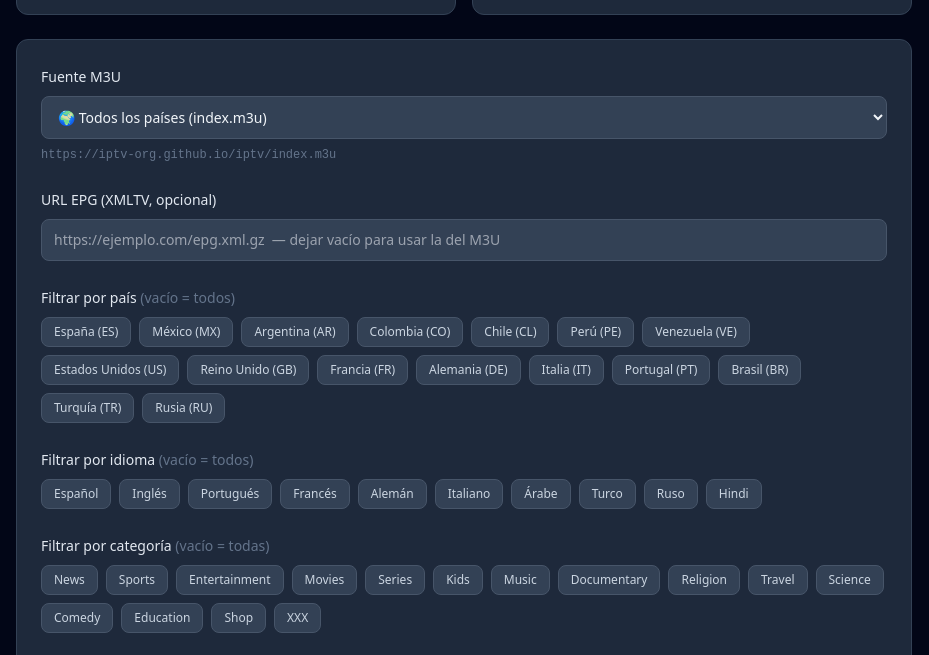
Test: IPTVPage › clears all filters when clicking "Limpiar filtros"
Click the button "España (ES)" at (86, 332), box [41, 317, 131, 347]
(page scrolled)
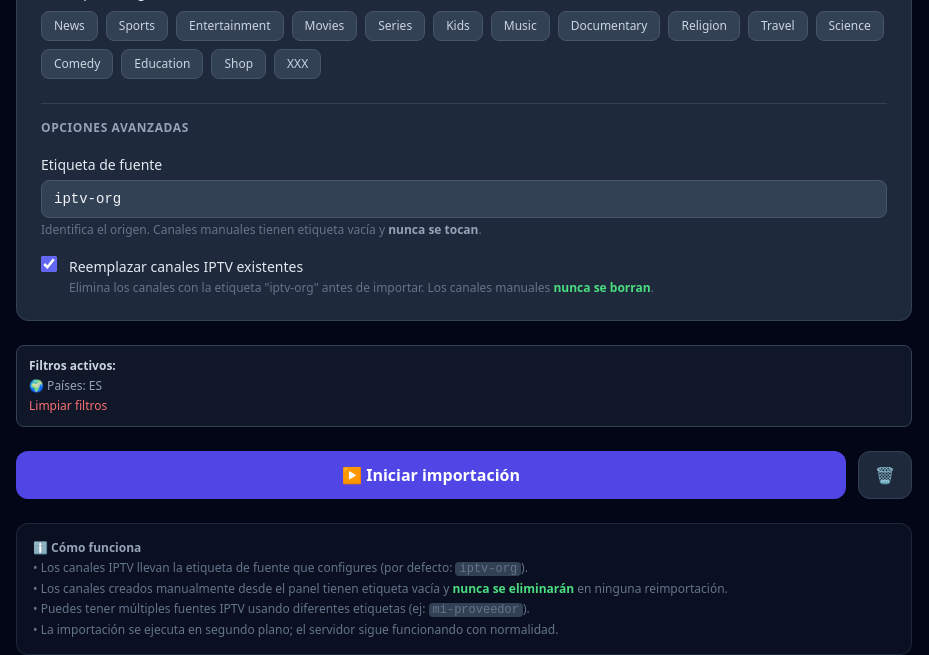
Now the button "Limpiar filtros" is shown
Click the button "Limpiar filtros" at (68, 406), box [29, 398, 107, 414]
(page scrolled)
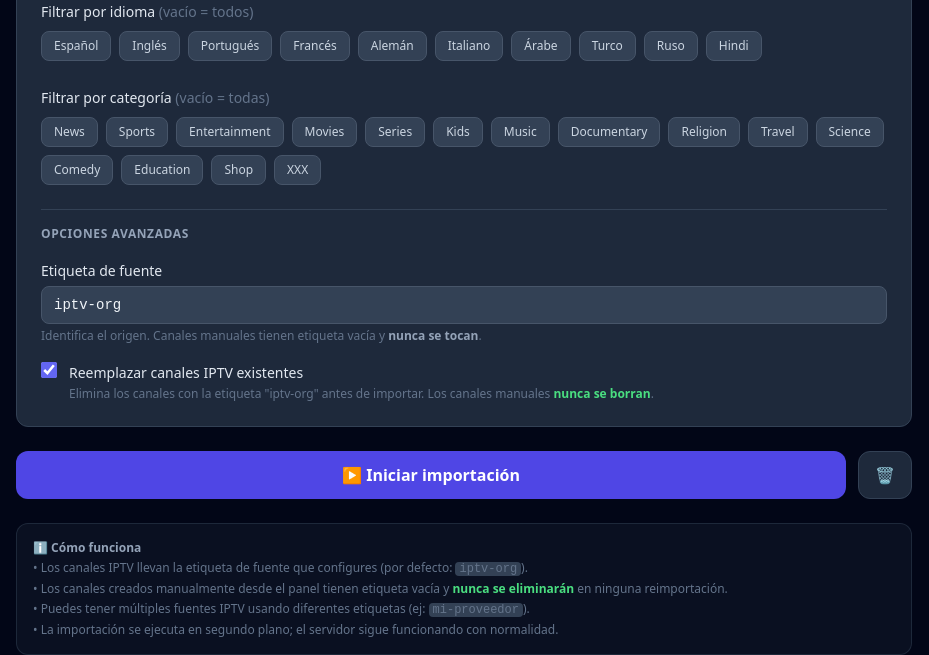
Now the text "Filtros activos:" is gone
